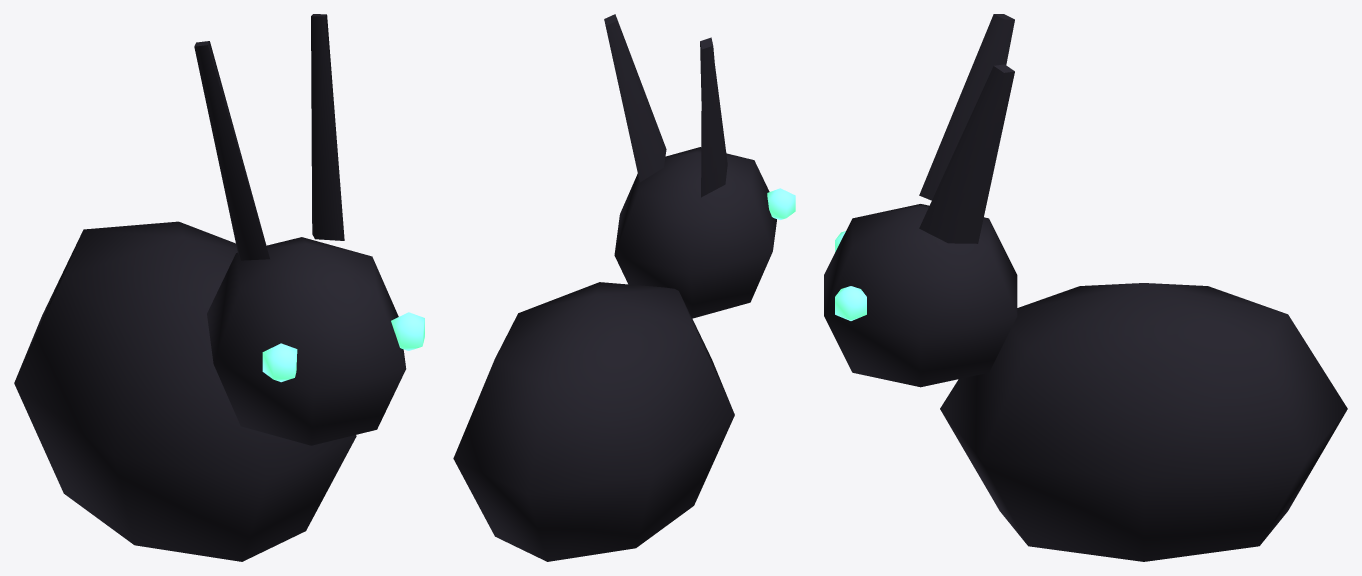
The model's file is rabbit.glb.
3 renders of one model, left to right at view 1: azimuth 30°, elevation 25°; view 2: azimuth 150°, elevation 25°; view 3: azimuth 270°, elevation 25°, orthographic. The views are drawn at different scales.
Parts seen in each view (by area): view 1: rabbit; view 2: rabbit; view 3: rabbit.
Part boxes in pixels (x1,y1,x2,y2): rabbit: (14, 14, 424, 561); rabbit: (453, 14, 795, 561); rabbit: (824, 14, 1347, 561).
Size of the model in its own units: 0.095 by 0.2061 by 0.1878.
